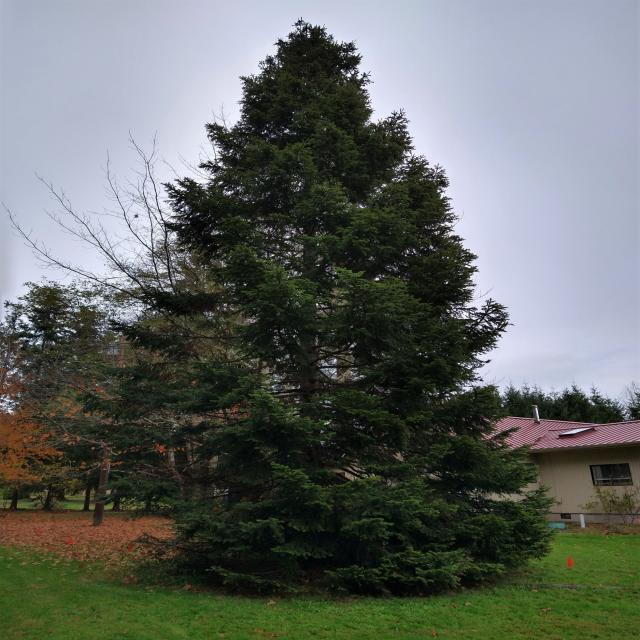Abies: (99, 20, 550, 578)
